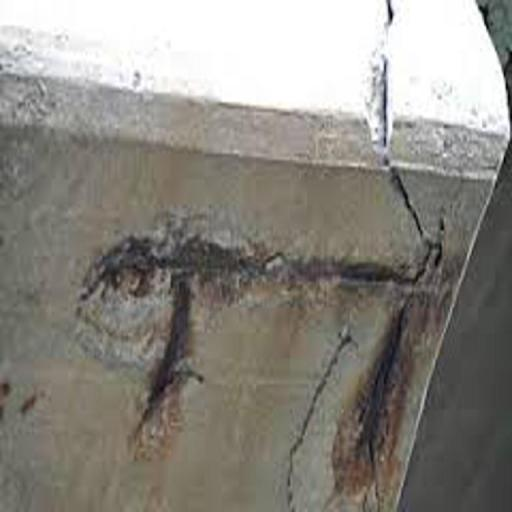spalling: (71, 230, 453, 493), (355, 5, 435, 234), (270, 320, 364, 506)
